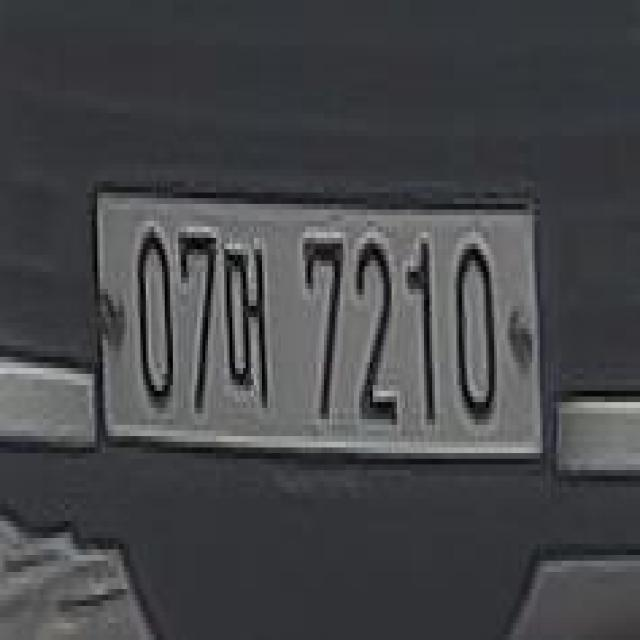illegal_plate: (95, 169, 541, 492)
